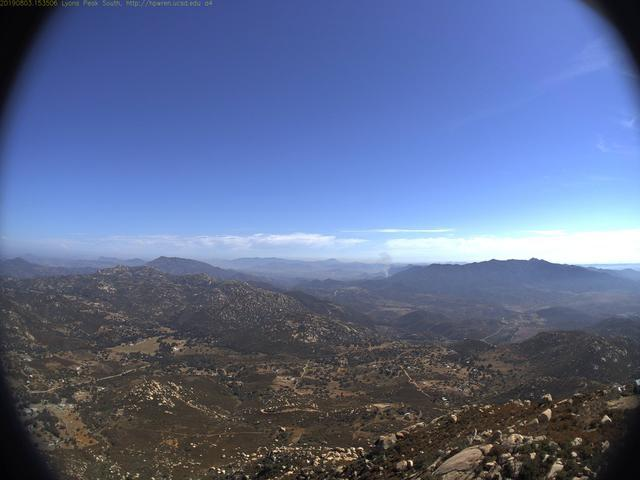smoke: (338, 244, 395, 282)
